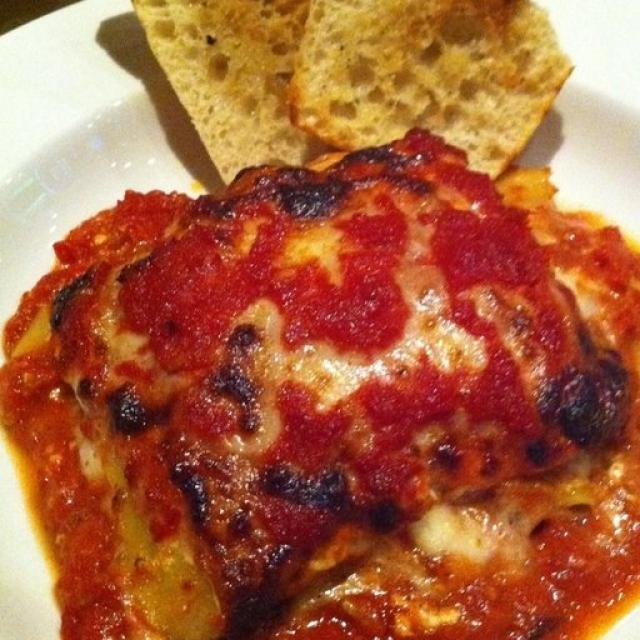Lasagna: (34, 217, 625, 602)
